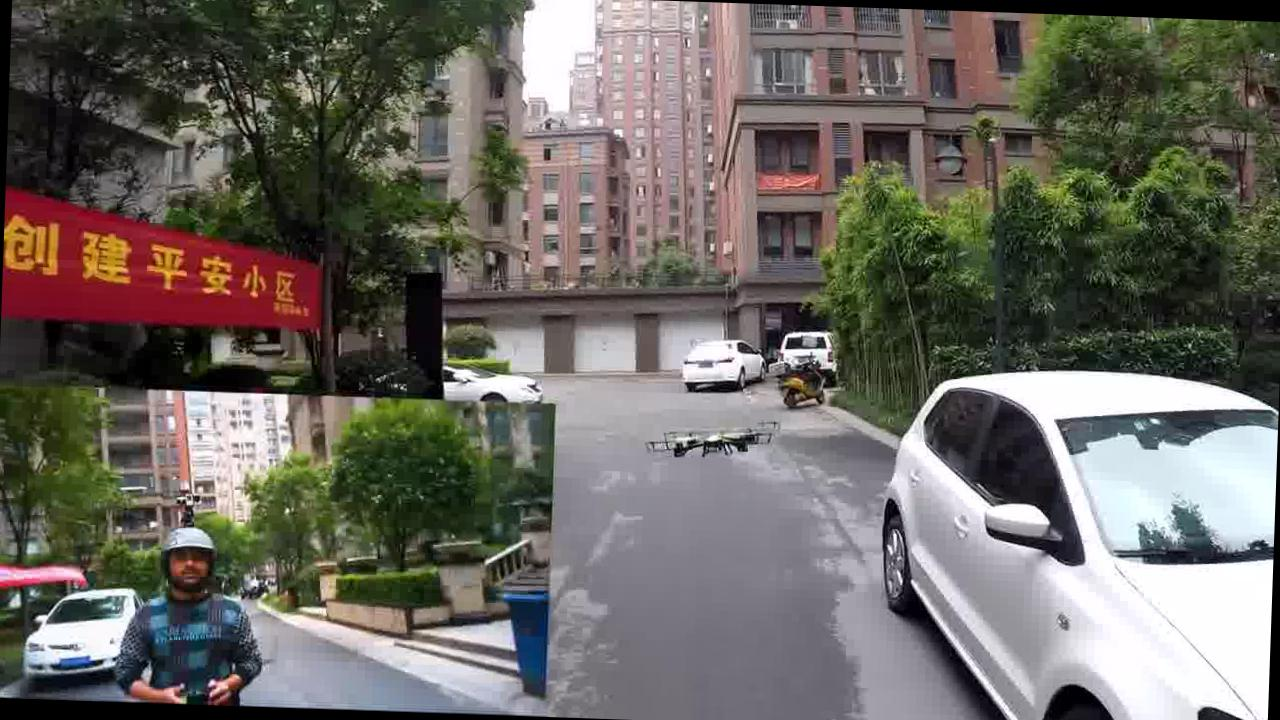drone: (633, 406, 786, 488)
